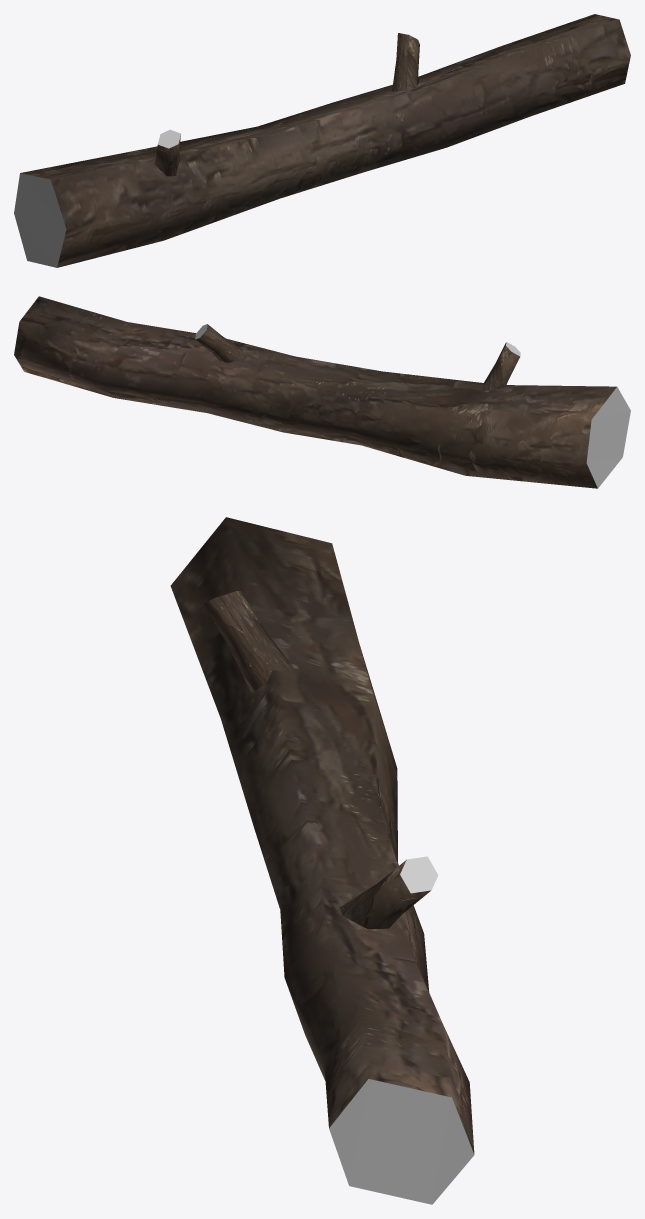
File: Tree_dead_3.FBX
3 views of the same model, one above another, from view 1: azimuth 30°, elevation 25°; view 2: azimuth 150°, elevation 25°; view 3: azimuth 270°, elevation 25° (orthographic). The views are drawn at different scales.
Visible parts, largest first — view 1: Cylinder002, Object001; view 2: Cylinder002, Object001; view 3: Cylinder002, Object001.
Part boxes in pixels (bbox=[...]): Cylinder002: bbox=[20, 14, 630, 267]; Object001: bbox=[14, 129, 180, 267]; Cylinder002: bbox=[14, 296, 616, 488]; Object001: bbox=[195, 324, 630, 488]; Cylinder002: bbox=[170, 517, 474, 1153]; Object001: bbox=[329, 856, 474, 1204].
Bounding box in the file's own units: 97.07 × 19.13 × 23.48.
